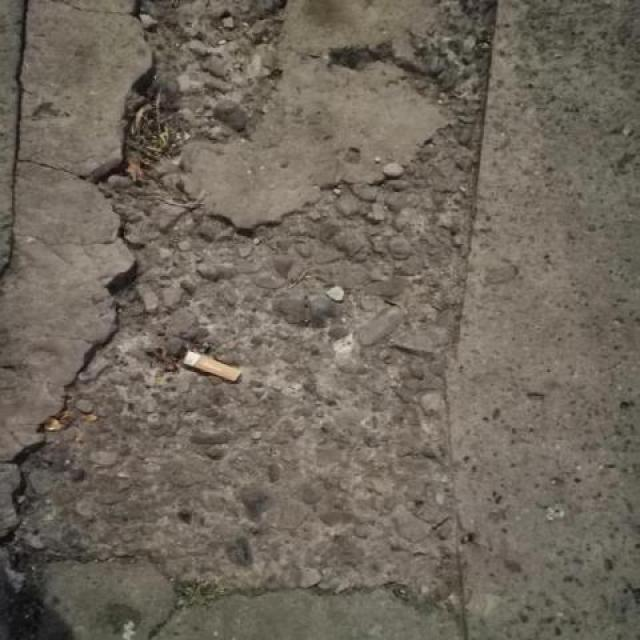non-organic waste: (180, 344, 243, 387)
